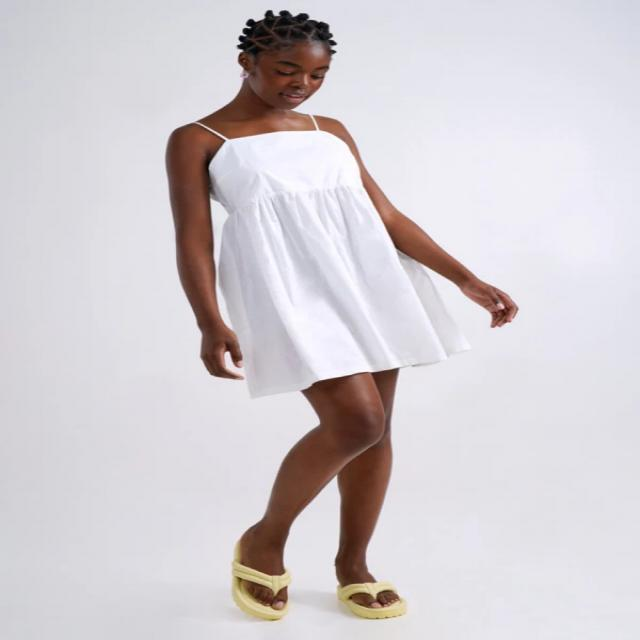clothes: (141, 106, 479, 396)
